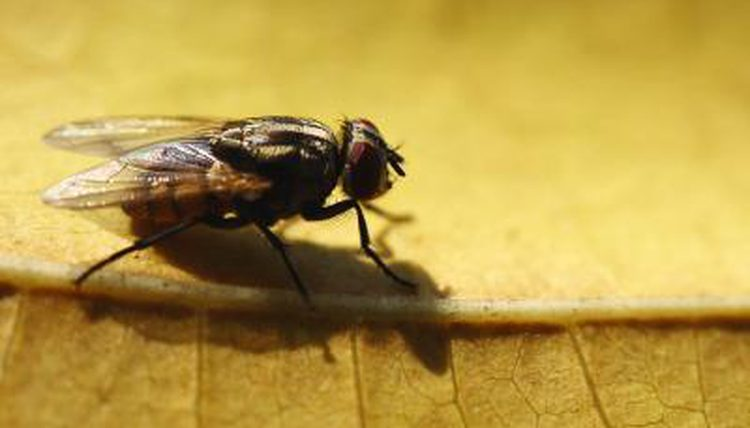house fly: (35, 104, 424, 326)
